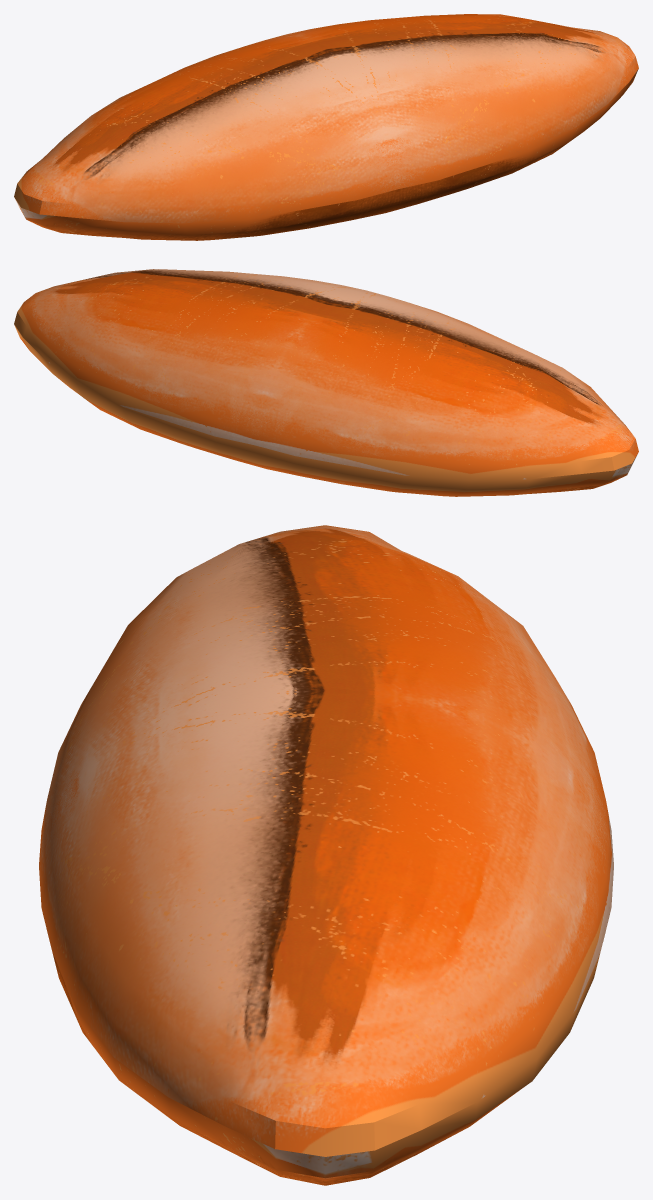
Rendered from ekmek_tam.fbx.
3 views of the same model, one above another, from view 1: azimuth 30°, elevation 25°; view 2: azimuth 150°, elevation 25°; view 3: azimuth 270°, elevation 25° (orthographic). The views are drawn at different scales.
Visible parts, largest first — view 1: Sphere.001; view 2: Sphere.001; view 3: Sphere.001.
Boxes of the visible parts, bbox=[...] form: Sphere.001: bbox=[14, 14, 638, 240]; Sphere.001: bbox=[14, 269, 638, 496]; Sphere.001: bbox=[39, 525, 613, 1185].
Size of the model in its own units: 291 by 60.24 by 118.
